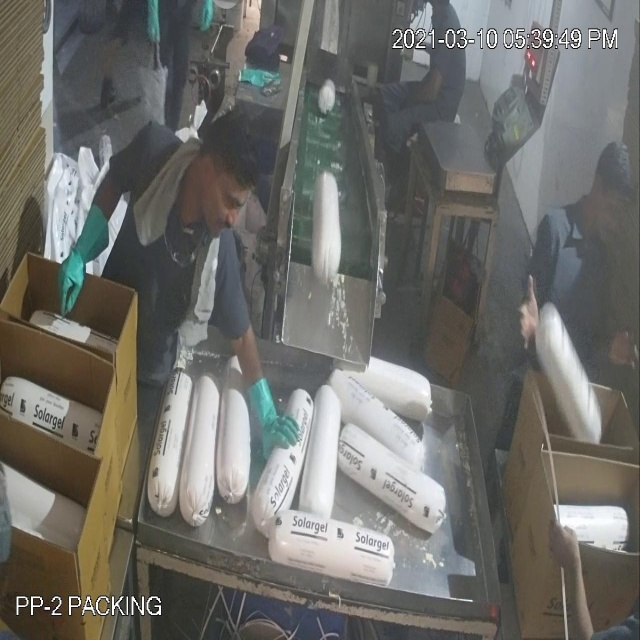Guantes: (57, 205, 118, 320), (242, 363, 305, 468)
Sin_guantes: (490, 260, 554, 383)
